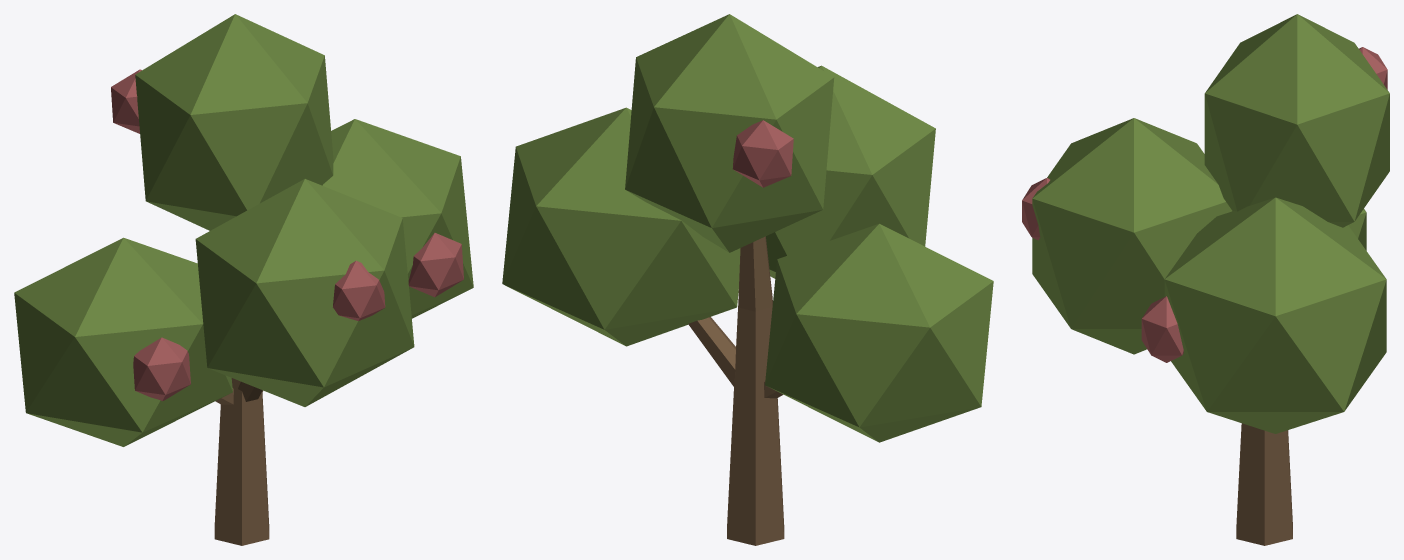
Rendered from resource-shrub.glb.
3 renders of one model, left to right at view 1: azimuth 30°, elevation 25°; view 2: azimuth 150°, elevation 25°; view 3: azimuth 270°, elevation 25°, orthographic. The views are drawn at different scales.
Parts seen in each view (by area): view 1: Icosphere.002, Icosphere.003, Icosphere, Icosphere.001, Tapered form, Icosphere.004, Icosphere.005, Icosphere.006, Icosphere.007; view 2: Icosphere, Icosphere.001, Icosphere.003, Icosphere.002, Tapered form, Icosphere.007, Tapered form.002; view 3: Icosphere.001, Icosphere.003, Icosphere.002, Tapered form, Icosphere.005, Icosphere.006, Icosphere.007.
Part boxes in pixels (box(x1,y1,x2,y2)): Icosphere.002: box(195, 179, 414, 406); Icosphere.003: box(135, 14, 333, 230); Icosphere: box(14, 237, 232, 446); Icosphere.001: box(322, 119, 473, 318); Tapered form: box(214, 378, 269, 545); Icosphere.004: box(133, 337, 190, 401); Icosphere.005: box(408, 233, 463, 297); Icosphere.006: box(333, 260, 385, 320); Icosphere.007: box(111, 69, 141, 133); Icosphere: box(765, 223, 993, 442); Icosphere.001: box(502, 107, 740, 346); Icosphere.003: box(625, 14, 834, 252); Icosphere.002: box(766, 65, 935, 278); Tapered form: box(727, 236, 784, 545); Icosphere.007: box(732, 120, 793, 187); Tapered form.002: box(688, 317, 735, 386); Icosphere.001: box(1164, 197, 1386, 433); Icosphere.003: box(1204, 14, 1389, 227); Icosphere.002: box(1032, 118, 1232, 354); Tapered form: box(1236, 423, 1292, 545); Icosphere.005: box(1141, 296, 1183, 362); Icosphere.006: box(1022, 178, 1050, 240); Icosphere.007: box(1359, 47, 1387, 89).
Bounding box in the file's own units: 0.4836 × 0.53 × 0.338.
